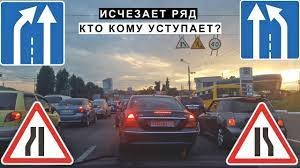1.18.2: (226, 103, 299, 168)
1.18.3: (2, 101, 75, 165)
